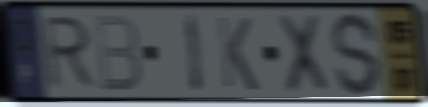B: (91, 12, 144, 94)
I: (184, 10, 207, 98)
K: (214, 14, 261, 94)
R: (41, 14, 100, 93)
S: (328, 10, 383, 99)
X: (275, 11, 332, 98)
